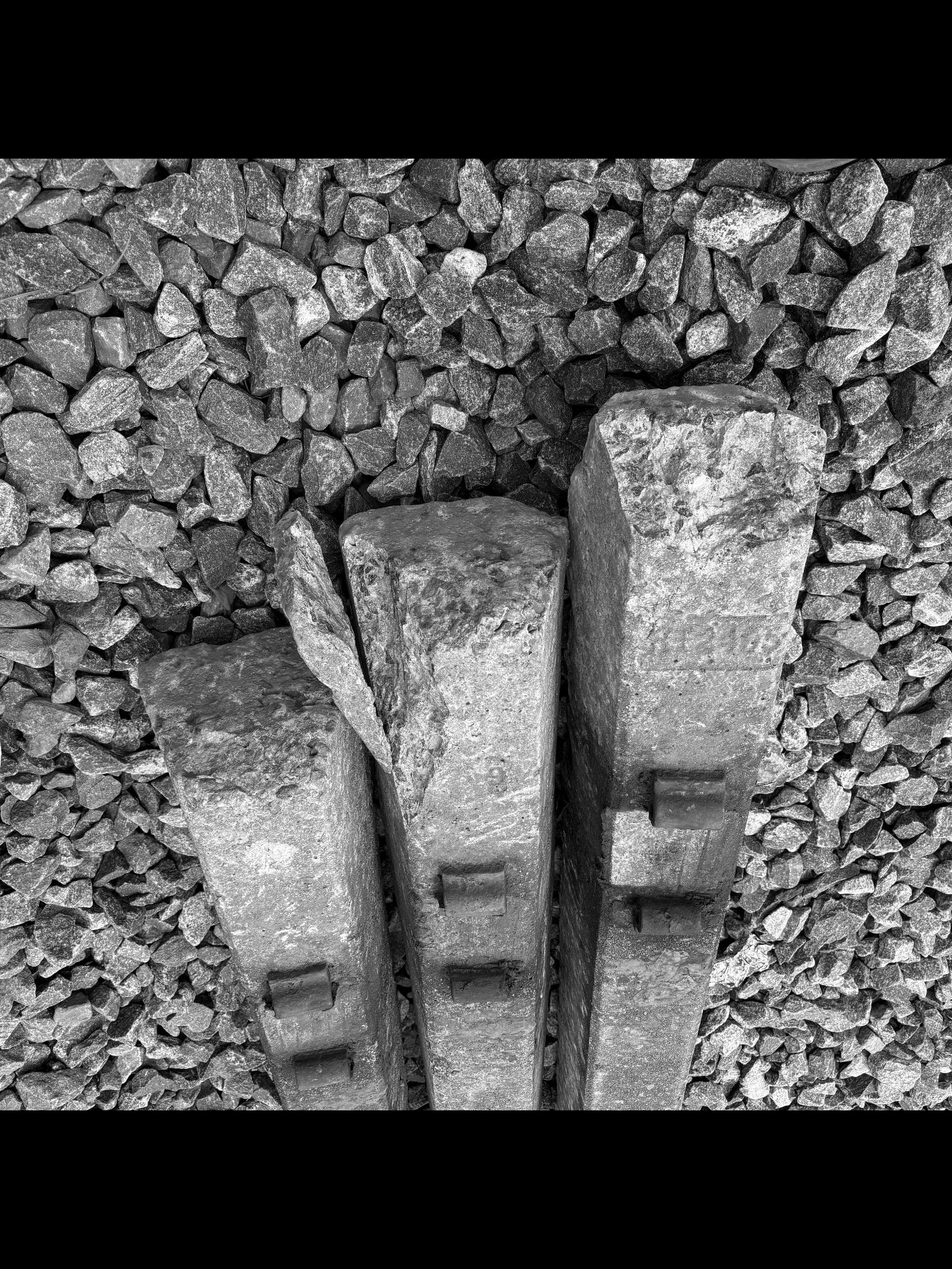damage: (290, 512, 461, 843), (596, 392, 804, 568)
